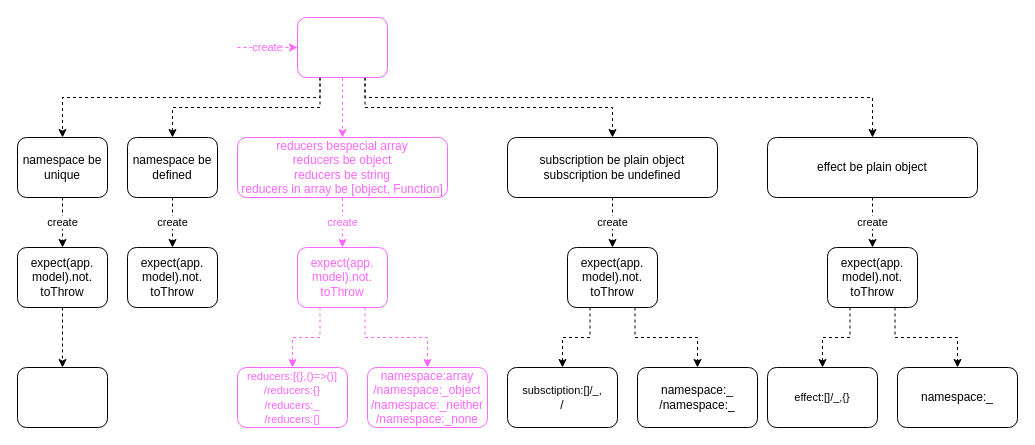
Some shapes in this 1035 by 445 pixel diagram are drawn without their labels. Here are the shapes that lost their labels. From the top down, the centre of each, then its label:
the point at 342,47: checkModel
the point at 62,397: namespace: repeat, namespace: repeat
